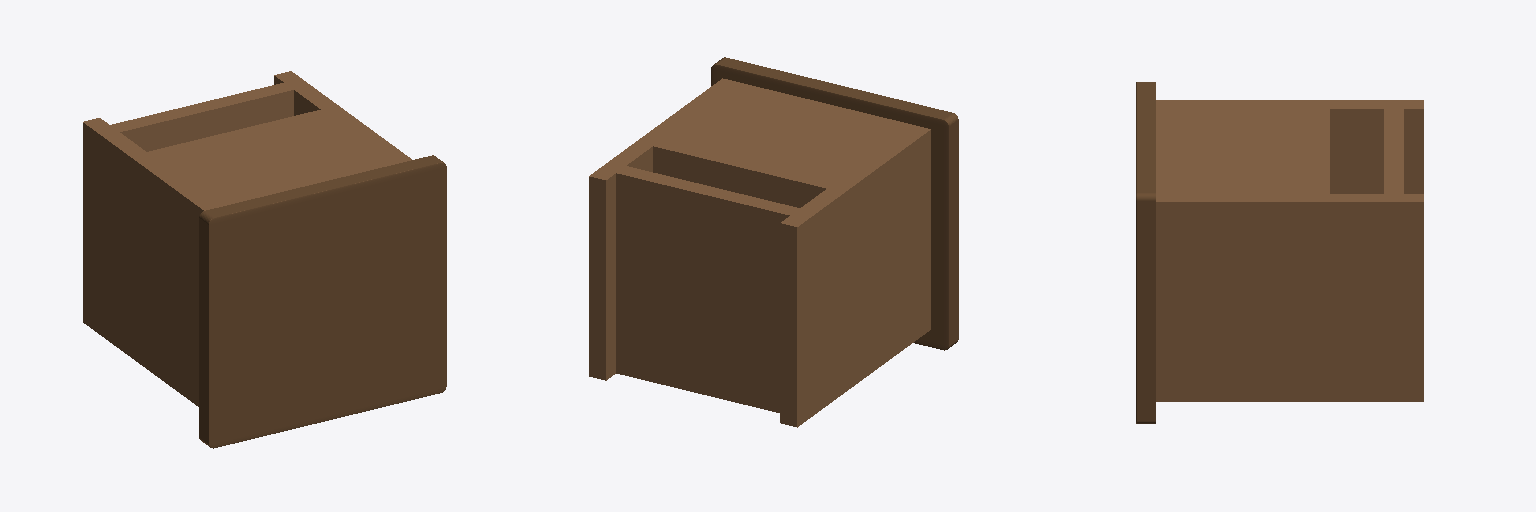
File: tinker.obj
3 views of the same model, side by side, from view 1: azimuth 30°, elevation 25°; view 2: azimuth 150°, elevation 25°; view 3: azimuth 270°, elevation 25° (orthographic).
Parts seen in each view (by area): view 1: obj_0; view 2: obj_0; view 3: obj_0.
Boxes of the visible parts, x1,y1,x2,y2 form: obj_0: [83, 71, 446, 448]; obj_0: [589, 57, 958, 427]; obj_0: [1136, 82, 1423, 423].
Size of the model in its own units: 41 by 39 by 43.